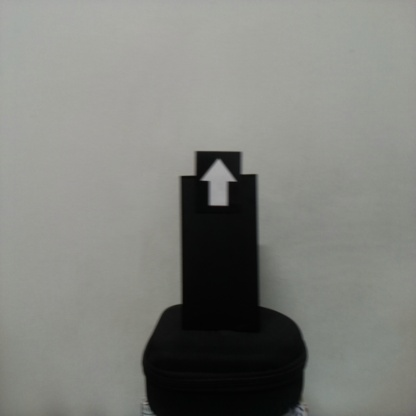id_1: (196, 152, 242, 218)
